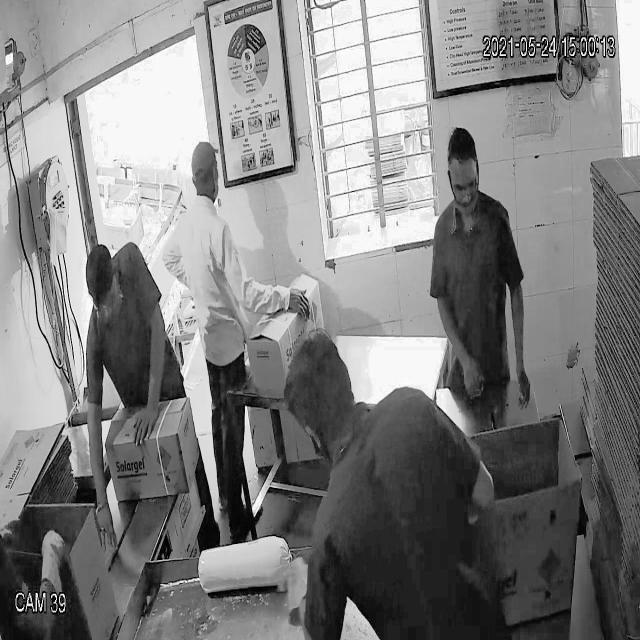glasses: (445, 169, 483, 203)
